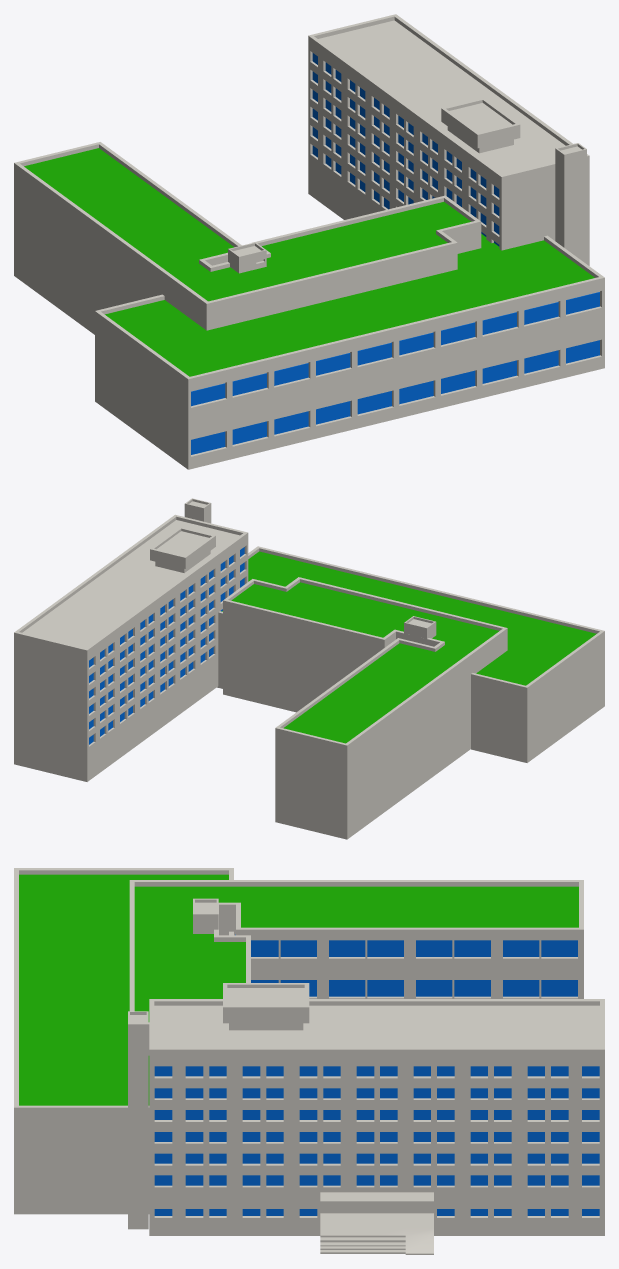
File: 1공학관.fbx
The picture shows the model from 3 angles, top to bottom: view 1: azimuth 30°, elevation 25°; view 2: azimuth 150°, elevation 25°; view 3: azimuth 270°, elevation 25°; orthographic projection. The views are drawn at different scales.
Visible parts, largest first — view 1: Cube_3, Cube_4, Cube, Cube_75, Cube_139, Cube_2, Cube_6, Cube_7; view 2: Cube_4, Cube, Cube_3, Cube_139, Cube_6, Cube_7, Cube_2; view 3: Cube, Cube_4, Cube_3, Cube_68, Cube_74, Cube_2, Cube_6, Cube_7, Cube_67, Cube_66.
Boxes of the visible parts, x1=… form: Cube_3: x1=95, y1=234, x2=604, y2=469; Cube_4: x1=14, y1=142, x2=481, y2=334; Cube: x1=308, y1=14, x2=589, y2=265; Cube_75: x1=191, y1=292, x2=599, y2=454; Cube_139: x1=312, y1=53, x2=499, y2=246; Cube_2: x1=555, y1=143, x2=586, y2=263; Cube_6: x1=441, y1=98, x2=520, y2=153; Cube_7: x1=228, y1=242, x2=266, y2=273; Cube_4: x1=223, y1=577, x2=507, y2=839; Cube: x1=14, y1=514, x2=248, y2=781; Cube_3: x1=217, y1=546, x2=604, y2=762; Cube_139: x1=89, y1=547, x2=244, y2=744; Cube_6: x1=150, y1=527, x2=215, y2=572; Cube_7: x1=404, y1=616, x2=436, y2=638; Cube_2: x1=184, y1=498, x2=211, y2=523; Cube: x1=149, y1=999, x2=604, y2=1254; Cube_4: x1=129, y1=880, x2=583, y2=1055; Cube_3: x1=14, y1=868, x2=233, y2=1214; Cube_68: x1=154, y1=1066, x2=599, y2=1185; Cube_74: x1=235, y1=934, x2=577, y2=996; Cube_2: x1=128, y1=1011, x2=148, y2=1229; Cube_6: x1=223, y1=983, x2=309, y2=1030; Cube_7: x1=193, y1=898, x2=218, y2=933; Cube_67: x1=154, y1=1209, x2=317, y2=1215; Cube_66: x1=437, y1=1209, x2=599, y2=1215.
Bounding box in the file's own units: 1342 × 464 × 1187.
